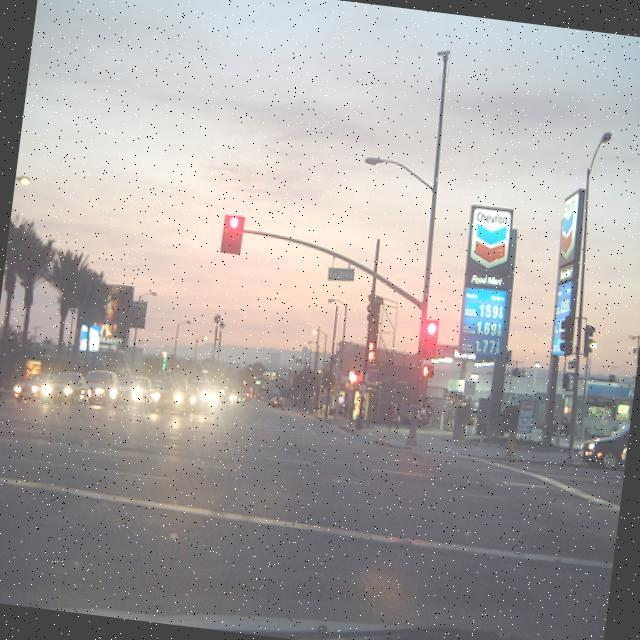fire_hydrant: (506, 436, 516, 454)
